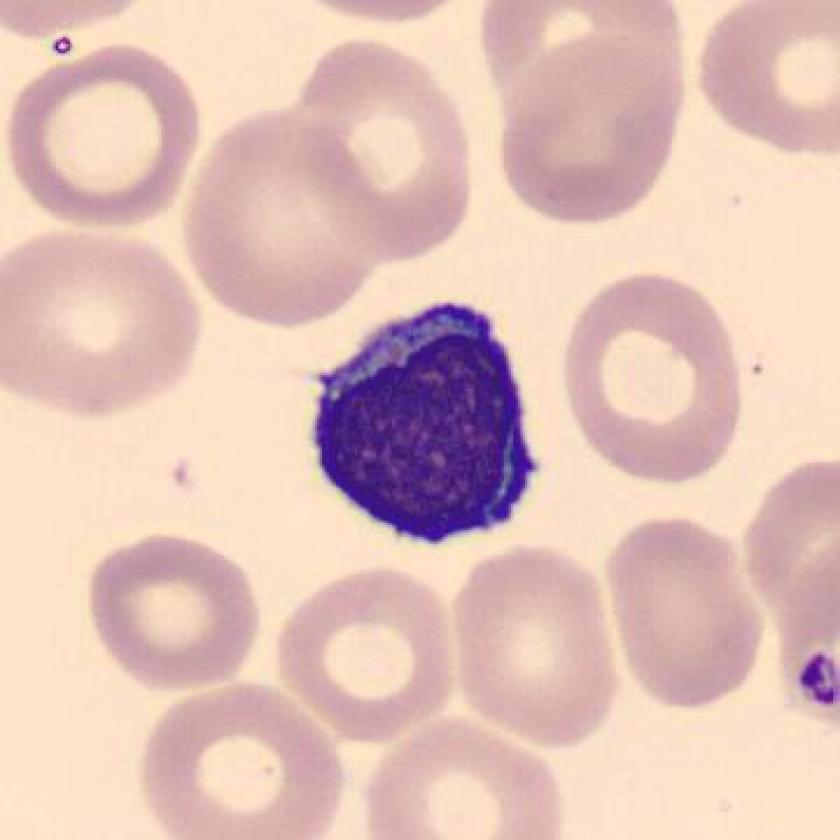lymphocyte: (295, 290, 559, 552)
platelets: (789, 643, 840, 719)
